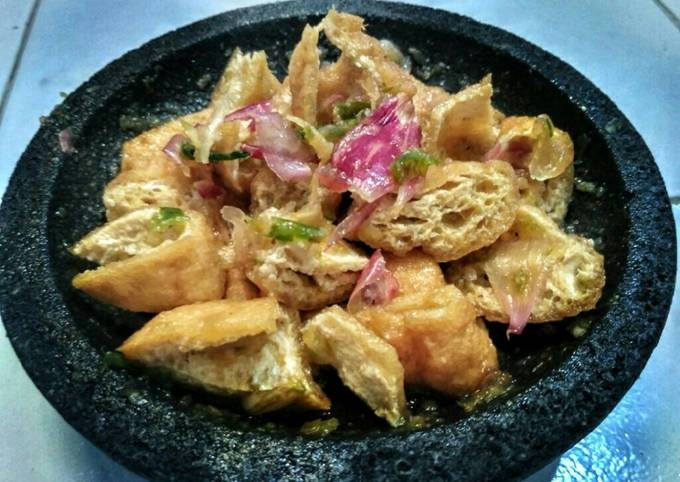tahu_gejrot: (67, 3, 606, 426)
